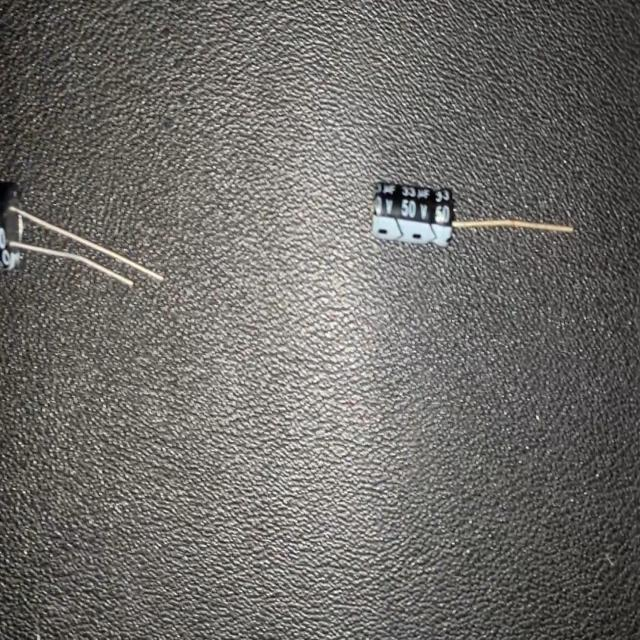capacitor: (0, 177, 167, 289)
missing-leg: (370, 178, 576, 249)
